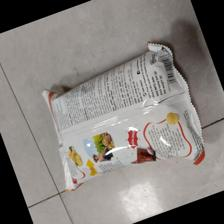Lays: (40, 42, 210, 193)
